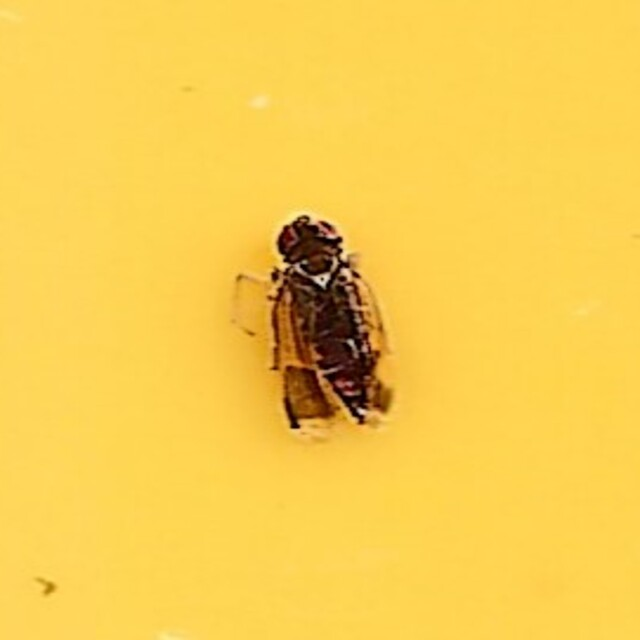Hemiptera: (236, 196, 404, 444)
